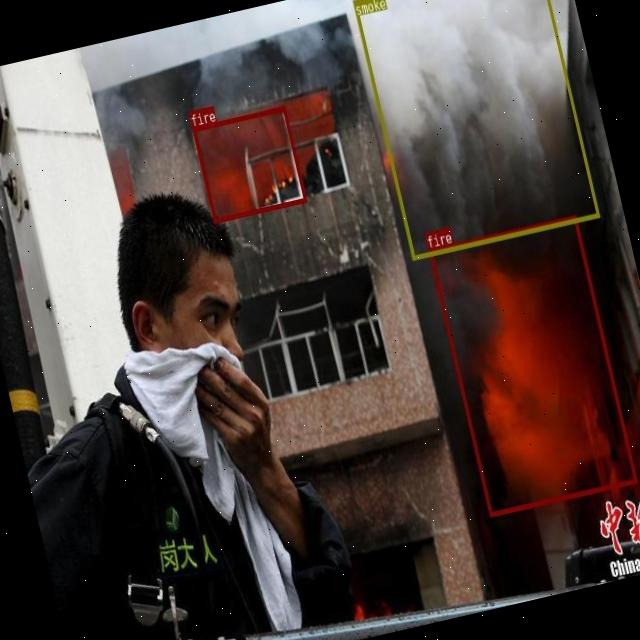fire: (428, 214, 636, 516), (192, 106, 306, 222)
smoke: (352, 0, 599, 259)
